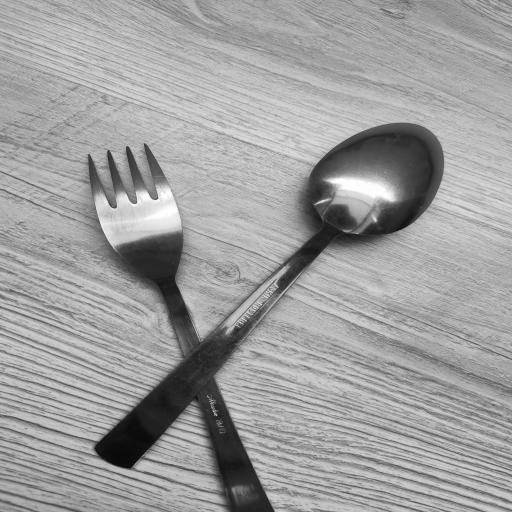fork: (84, 140, 284, 512)
spoon: (95, 122, 451, 474)
